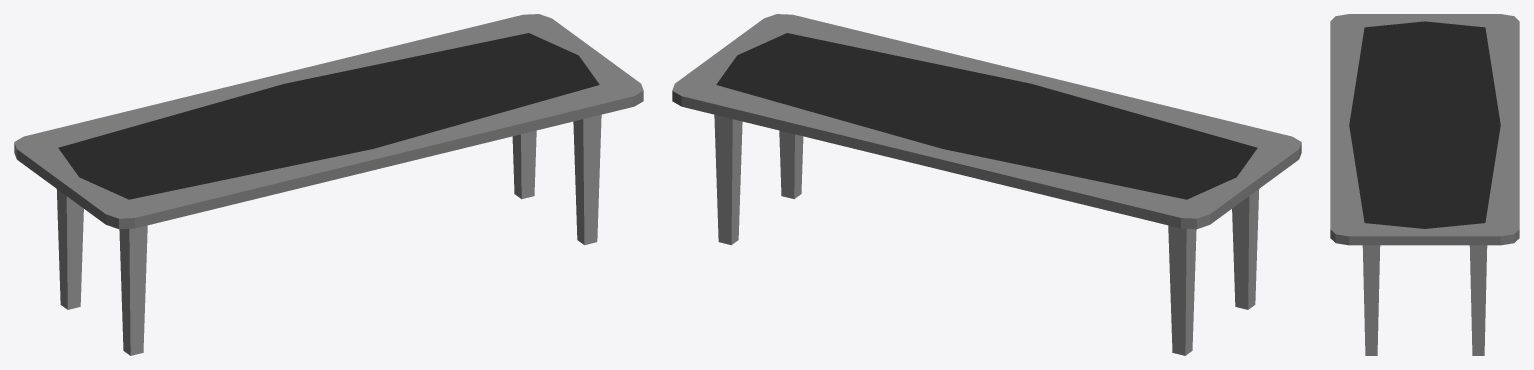
Rendered from DiningRoomTableModel.fbx.
3 renders of one model, left to right at view 1: azimuth 30°, elevation 25°; view 2: azimuth 150°, elevation 25°; view 3: azimuth 270°, elevation 25°, orthographic. The views are drawn at different scales.
Visible parts, largest first — view 1: DiningRoomTableModel; view 2: DiningRoomTableModel; view 3: DiningRoomTableModel.
Part boxes in pixels (x1,y1,x2,y2): DiningRoomTableModel: (14, 14, 643, 355); DiningRoomTableModel: (672, 14, 1301, 355); DiningRoomTableModel: (1330, 14, 1519, 355).
Size of the model in its own units: 350 by 98.15 by 126.
